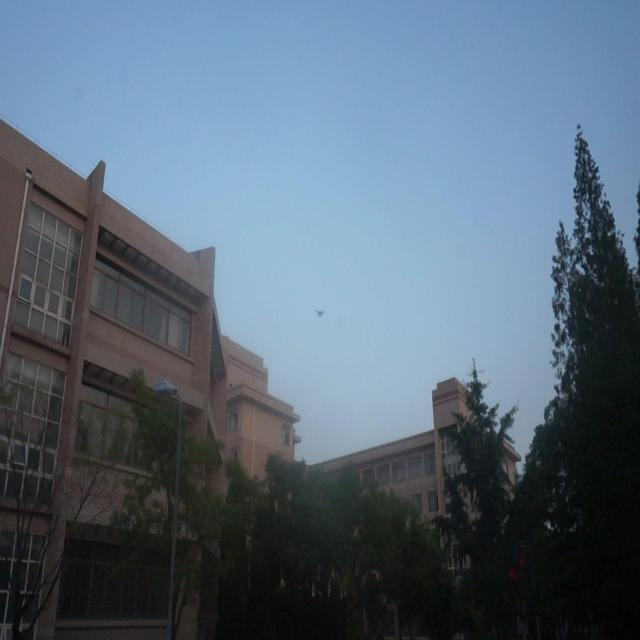UAV: (315, 310, 326, 318)
